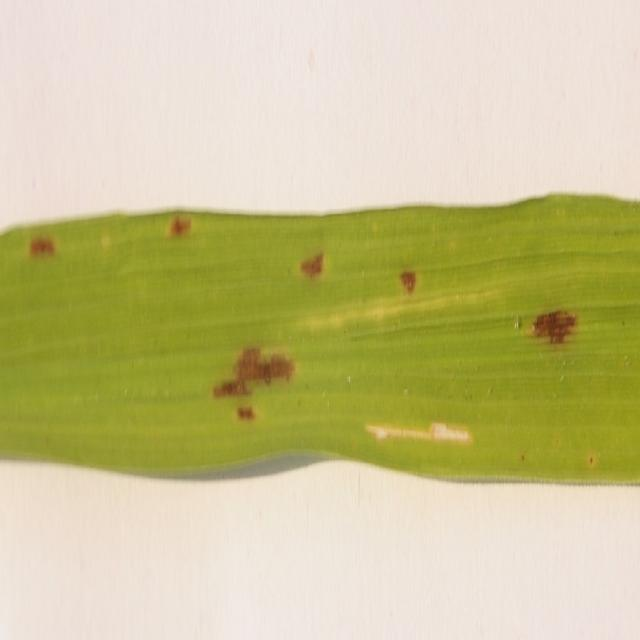Unhealthy: (302, 287, 492, 328), (213, 345, 297, 399), (364, 419, 473, 443), (529, 309, 577, 348), (299, 249, 326, 281), (29, 235, 56, 262), (167, 214, 196, 237), (399, 270, 419, 300), (232, 405, 258, 427), (101, 234, 110, 251), (588, 452, 594, 466), (521, 452, 525, 461)
